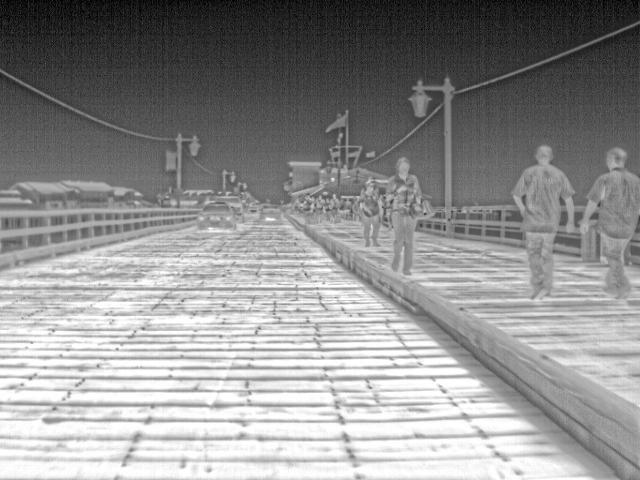car: (197, 204, 235, 230), (214, 197, 245, 223), (259, 204, 282, 220)
person: (508, 145, 573, 298), (579, 146, 639, 296), (382, 156, 421, 271), (356, 179, 385, 247), (299, 192, 315, 214), (313, 192, 327, 213), (328, 192, 342, 213)
